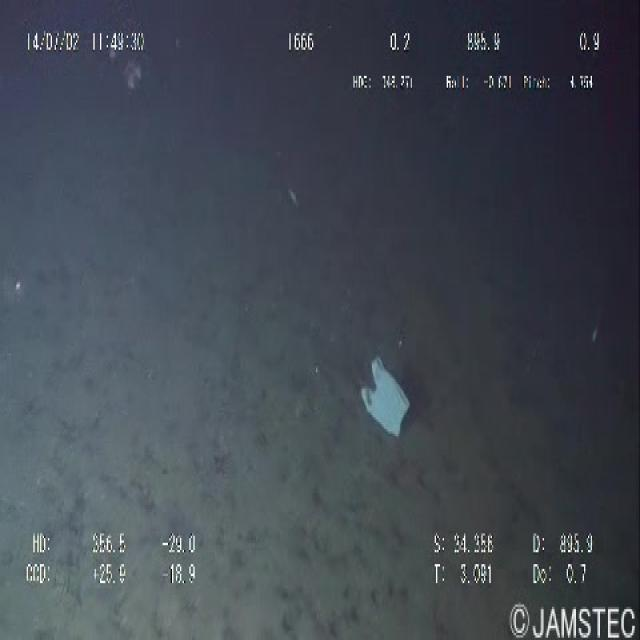plastic: (351, 344, 417, 446)
